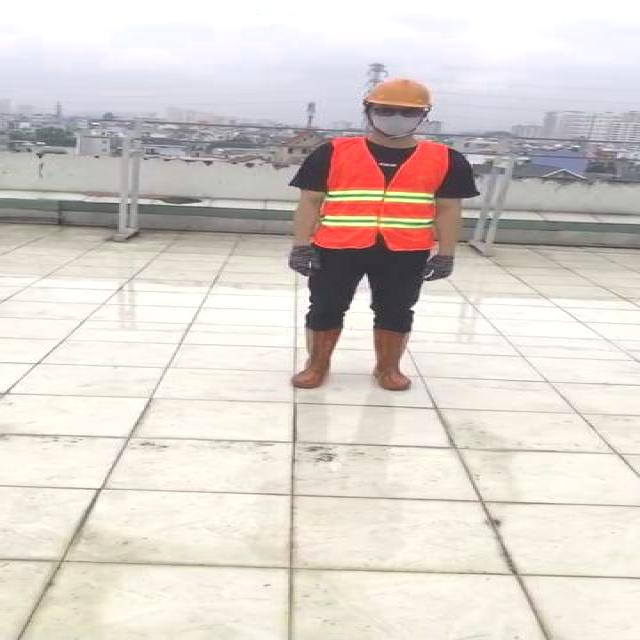boots: (291, 327, 345, 390), (364, 330, 418, 390)
face_mask: (366, 102, 428, 136)
glasses: (364, 103, 431, 120)
hand_glove: (284, 246, 320, 275), (421, 255, 459, 282)
head_helmet: (363, 76, 437, 109)
person: (270, 76, 480, 396)
vest: (314, 137, 452, 249)
